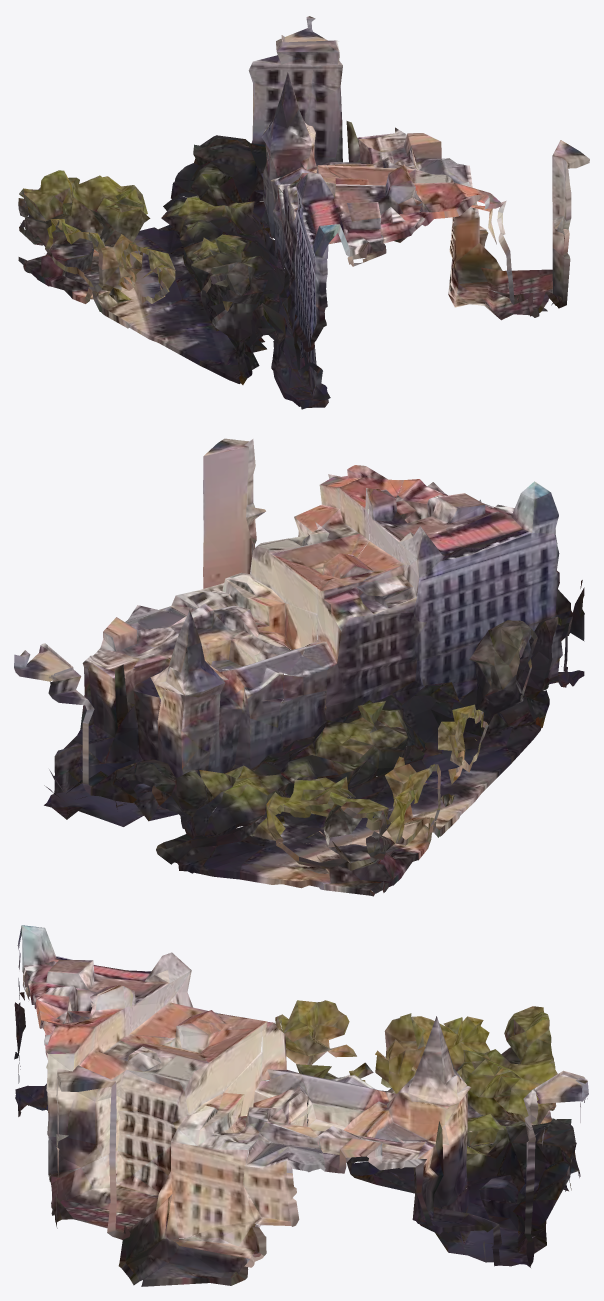
3 renders of one model, top to bottom at view 1: azimuth 30°, elevation 25°; view 2: azimuth 150°, elevation 25°; view 3: azimuth 270°, elevation 25°, orthographic. The views are drawn at different scales.
Visible parts, largest first — view 1: Mesh_0; view 2: Mesh_0; view 3: Mesh_0.
Part boxes in pixels (<box>): Mesh_0: <box>18,16,589,409</box>; Mesh_0: <box>14,438,584,896</box>; Mesh_0: <box>14,925,588,1286</box>.
Bounding box in the file's own units: 67.5 × 35.99 × 82.79.
1 material, 1 textured.
